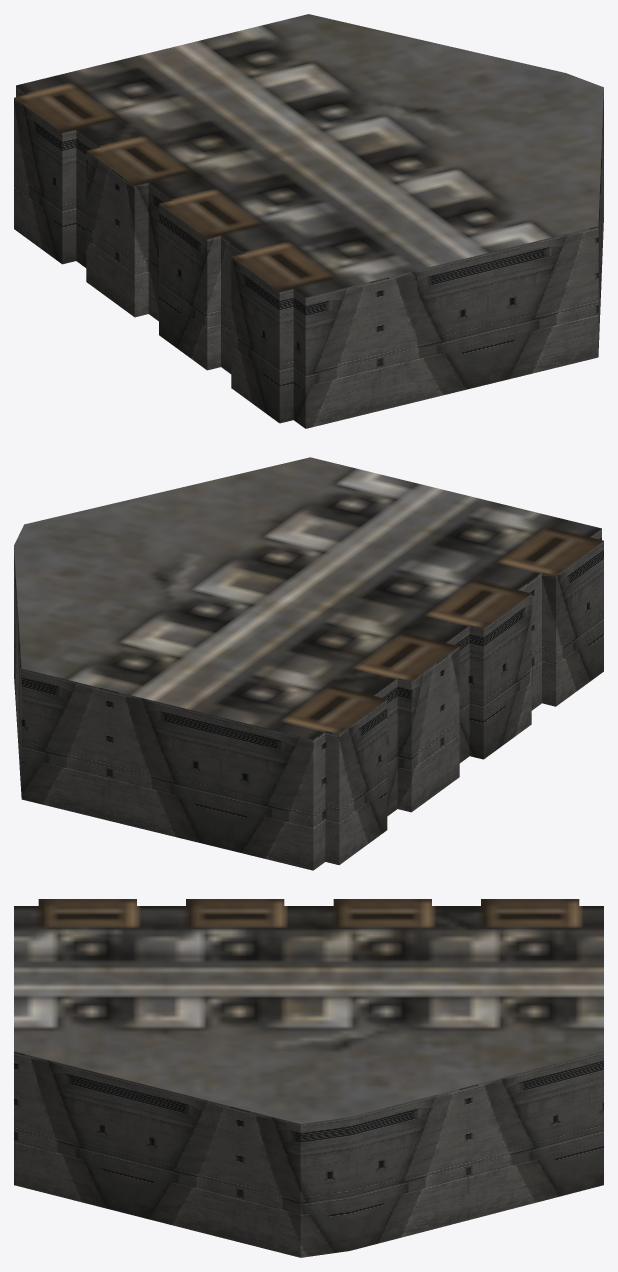
The model's file is fortress_hard_a_15.glb.
The picture shows the model from 3 angles, top to bottom: view 1: azimuth 30°, elevation 25°; view 2: azimuth 150°, elevation 25°; view 3: azimuth 270°, elevation 25°; orthographic projection. The views are drawn at different scales.
Parts seen in each view (by area): view 1: buildings/saxarba/fortress_hard/fortress_hard_a_15; view 2: buildings/saxarba/fortress_hard/fortress_hard_a_15; view 3: buildings/saxarba/fortress_hard/fortress_hard_a_15.
Boxes of the visible parts, <box> form: buildings/saxarba/fortress_hard/fortress_hard_a_15: <box>14,14,603,428</box>; buildings/saxarba/fortress_hard/fortress_hard_a_15: <box>14,457,603,870</box>; buildings/saxarba/fortress_hard/fortress_hard_a_15: <box>14,899,603,1257</box>.
Bounding box in the file's own units: 65 × 18 × 72.
